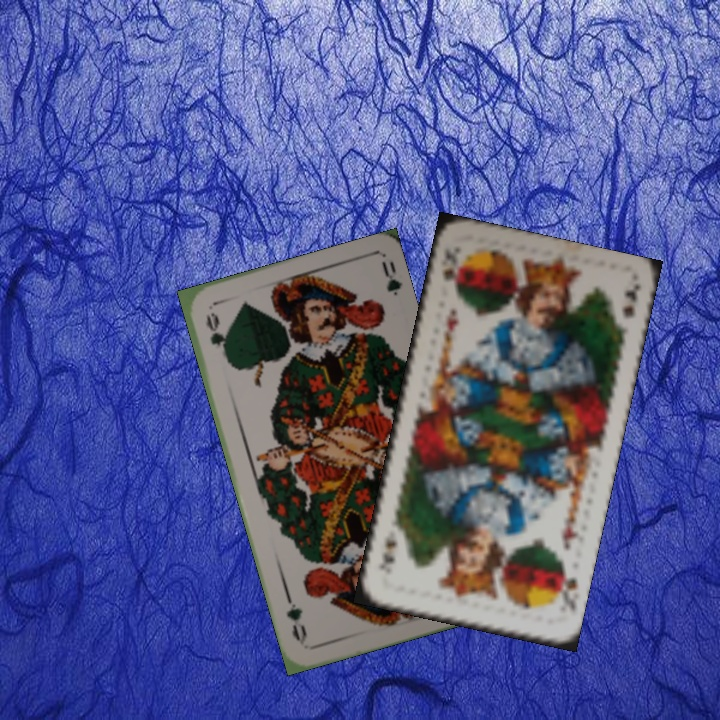GO: (201, 308, 231, 364)
SK: (556, 562, 580, 613), (436, 252, 459, 294)
